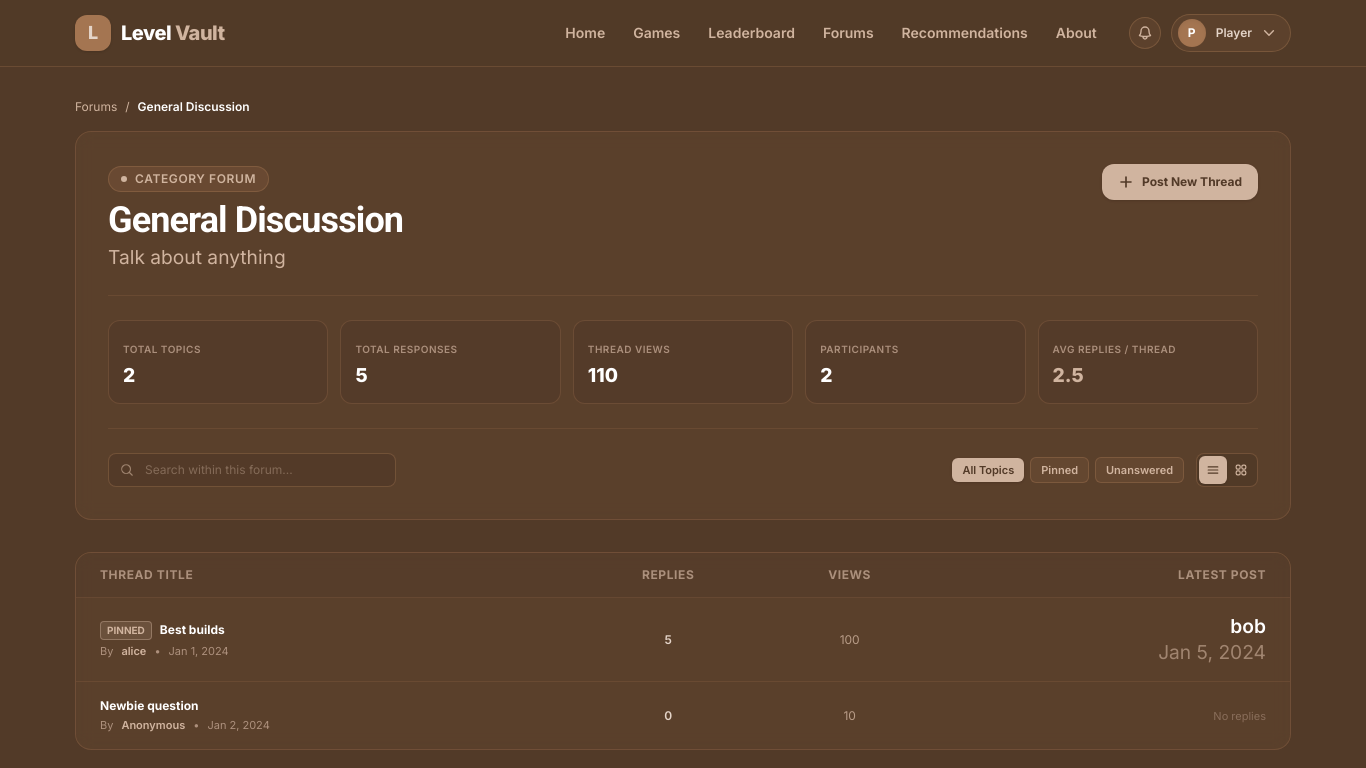
Test: CategoryDetailPage › CreateThreadModal › disables submission until title and content are filled, then creates the thread and navigates
Click the button "Post New Thread" at [1180, 182], box [1102,164,1258,200]
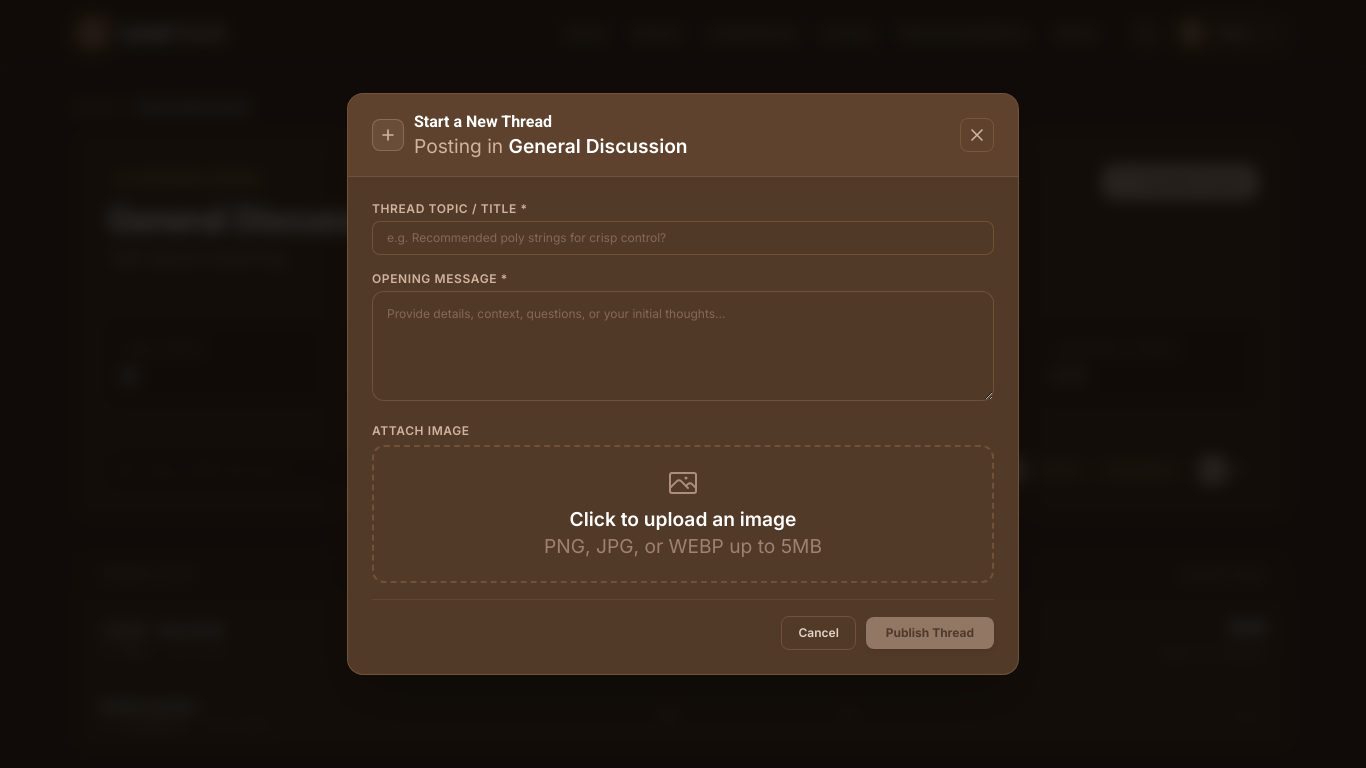
Expected: the button "Publish Thread" is disabled, [866,617,994,649]
Type "My new topic" into the field with placeholder "e.g. Recommended poly strings for crisp control?" at [683, 238], box [372,221,994,255]
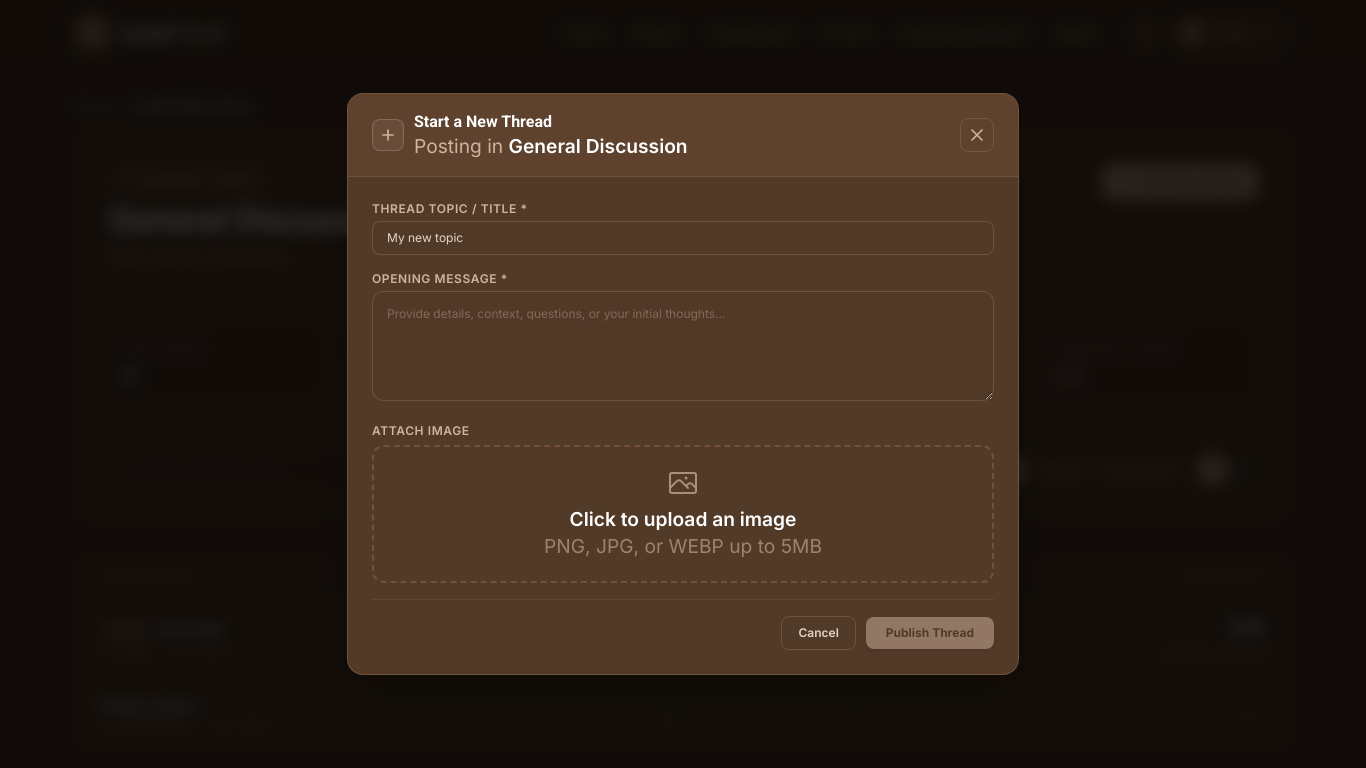
Replace the text in the text box with placeholder "Provide details, context, questions" with "Here is my opening message." at [683, 346], box [372,291,994,401]
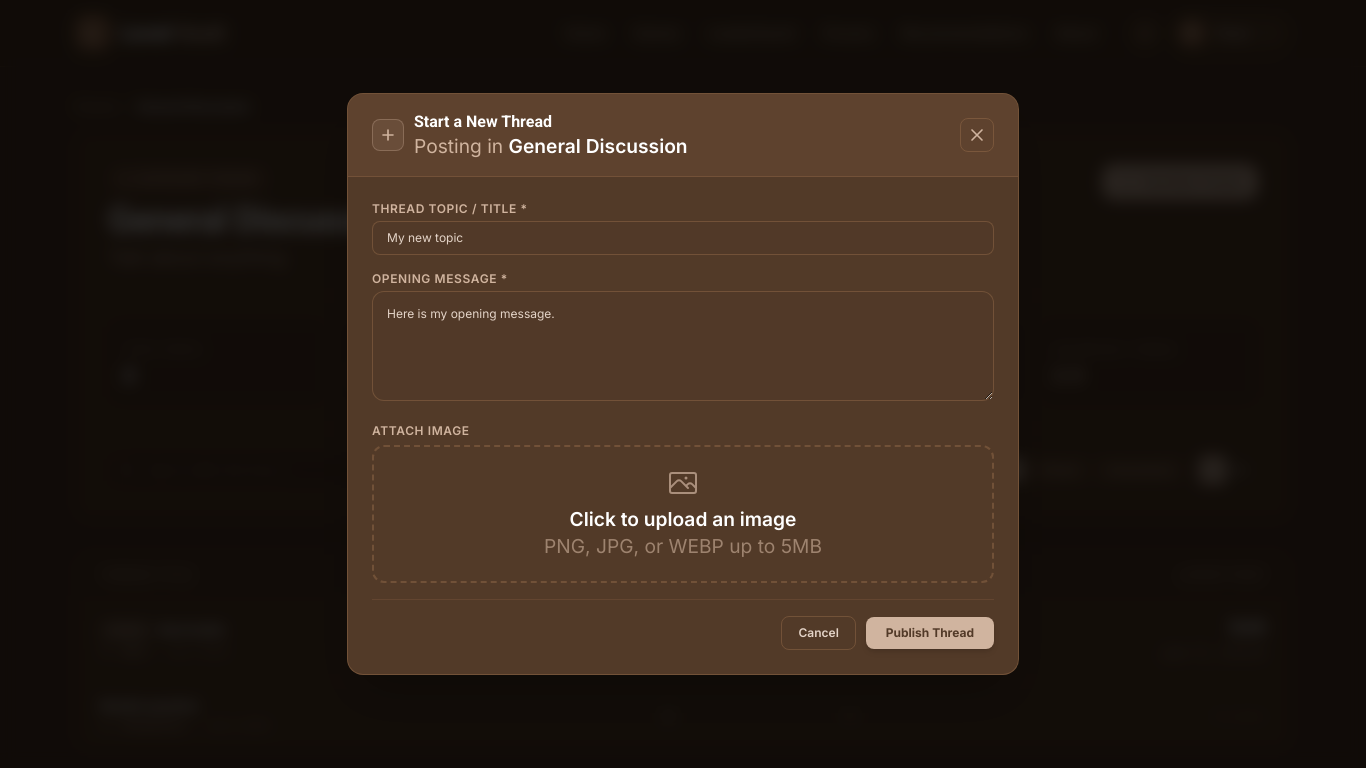
Expected: the button "Publish Thread" is enabled
Click the button "Publish Thread" at [930, 633], box [866,617,994,649]
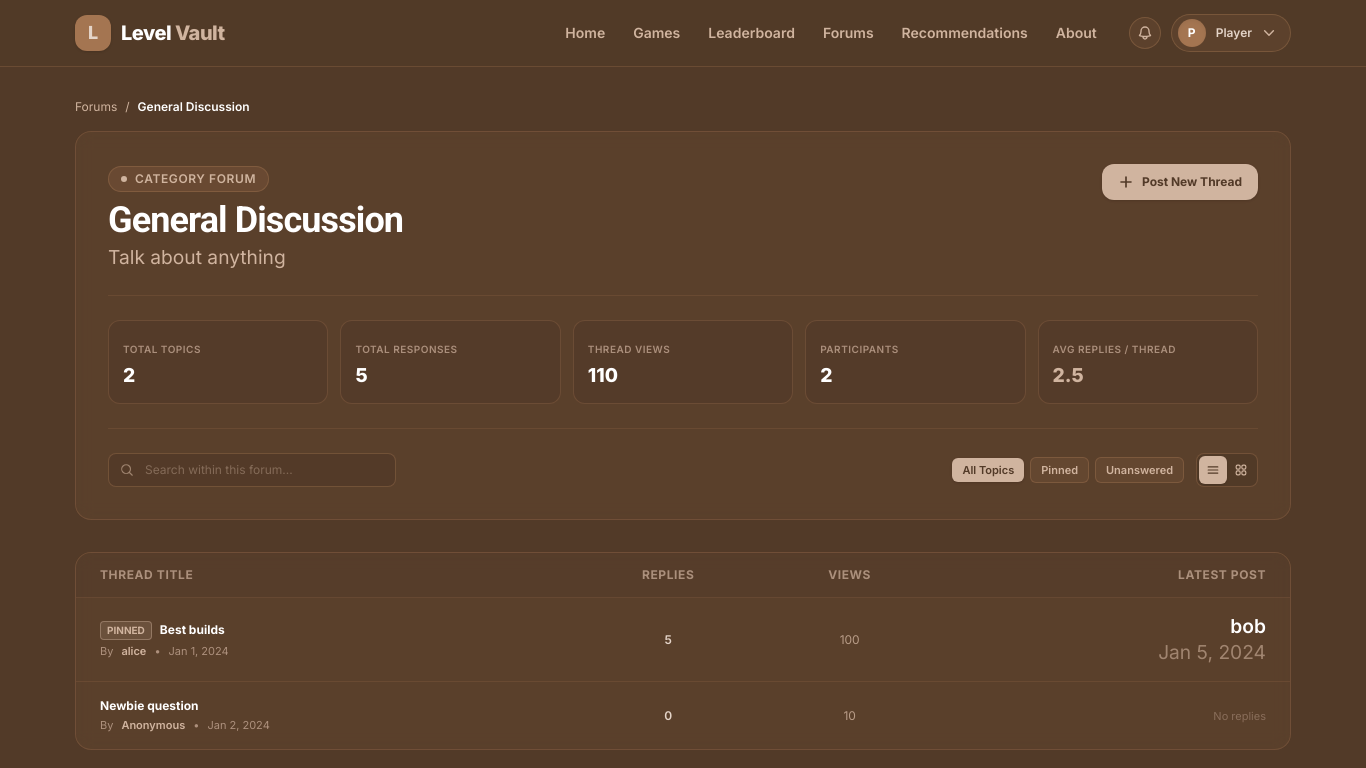
Expected: the heading "Start a New Thread" is gone
